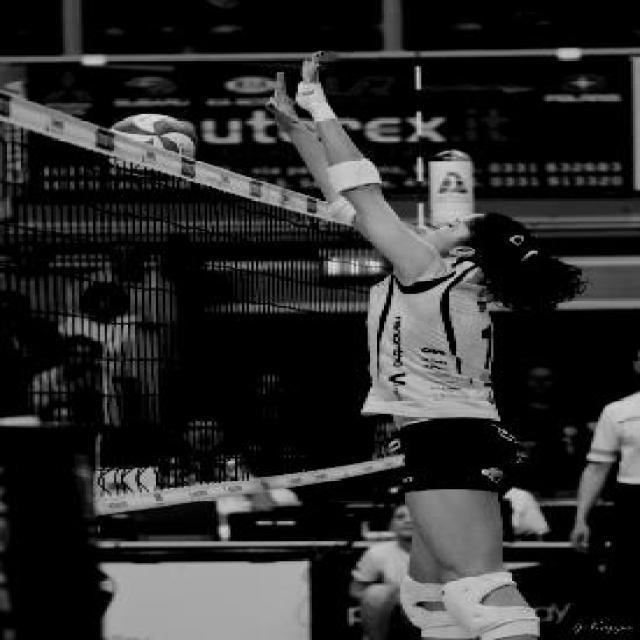volleyball: (107, 112, 196, 158)
